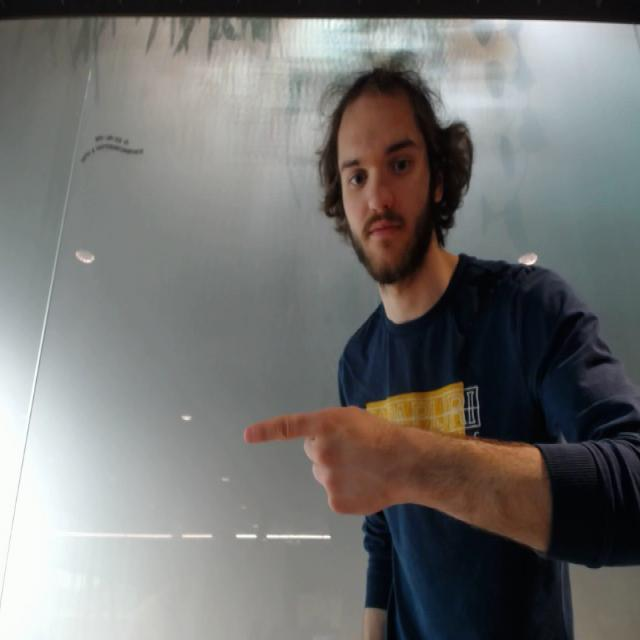left: (240, 400, 408, 524)
